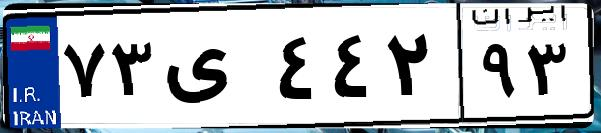2: (385, 28, 445, 110)
3: (525, 38, 570, 115), (110, 28, 158, 98)
4: (270, 28, 330, 110), (330, 28, 385, 110)
7: (57, 26, 110, 100)
9: (475, 38, 525, 113)
ی: (158, 20, 270, 120)
